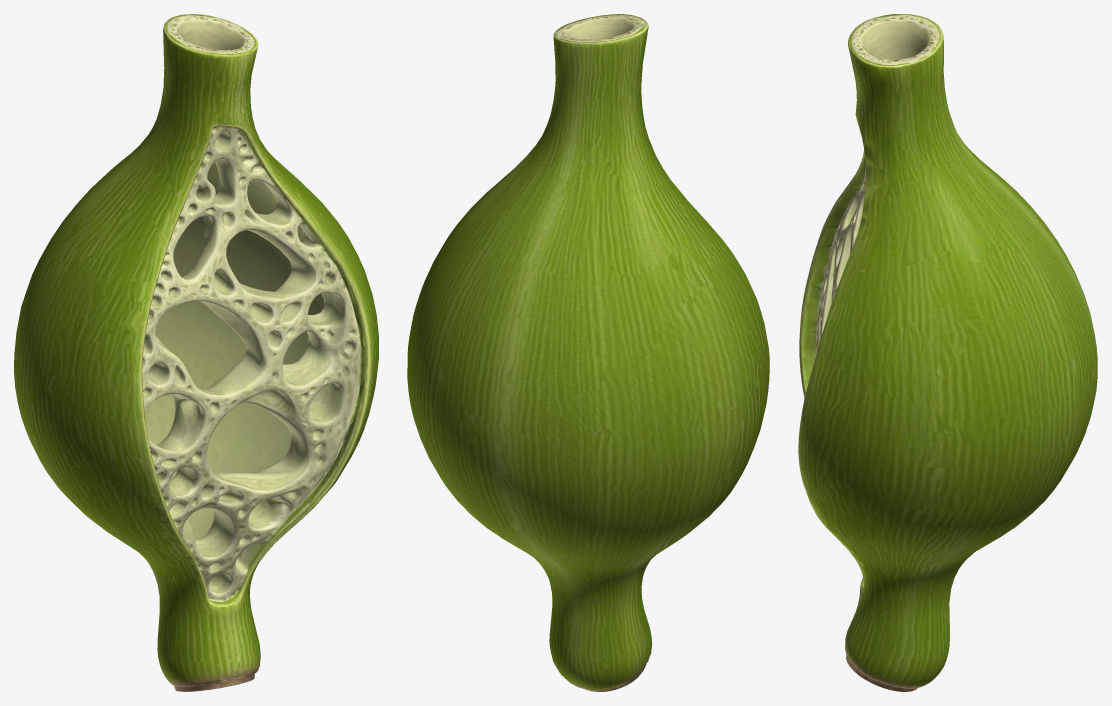
File: petiole_cut.glb
3 renders of one model, left to right at view 1: azimuth 30°, elevation 25°; view 2: azimuth 150°, elevation 25°; view 3: azimuth 270°, elevation 25°, orthographic.
Parts seen in each view (by area): view 1: Mesh_0; view 2: Mesh_0; view 3: Mesh_0.
Boxes of the visible parts, bbox=[...] form: Mesh_0: bbox=[14, 14, 378, 691]; Mesh_0: bbox=[407, 14, 769, 691]; Mesh_0: bbox=[798, 14, 1097, 691].
Size of the model in its own units: 1.01 by 2 by 0.832.
1 material, 1 textured.
